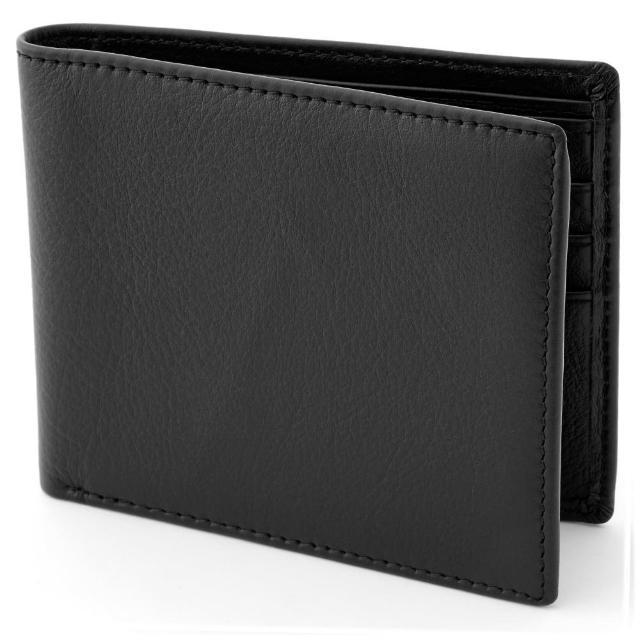wallet: (14, 16, 616, 608)
